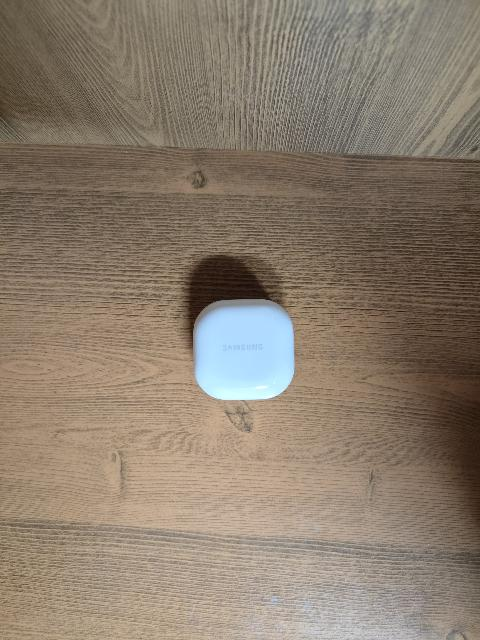earphone_case: (193, 299, 295, 401)
